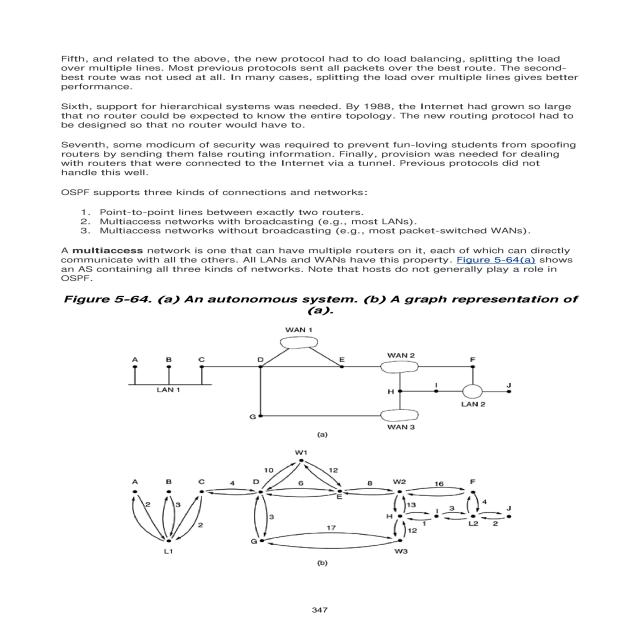diagram: (31, 285, 608, 592)
